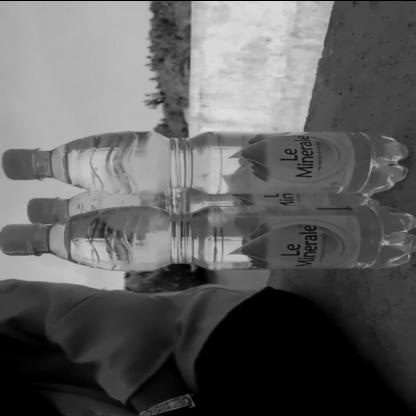plastic_bottles: (0, 129, 415, 197), (0, 204, 416, 269)
